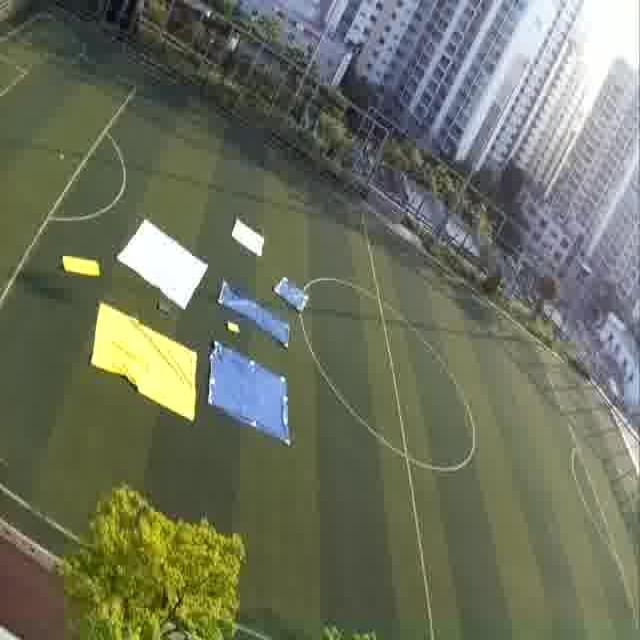danger: (212, 360, 288, 430), (218, 283, 262, 318), (276, 277, 308, 311)
safety: (129, 236, 204, 292), (231, 216, 266, 258)
warning: (95, 319, 198, 409), (64, 252, 99, 278)
